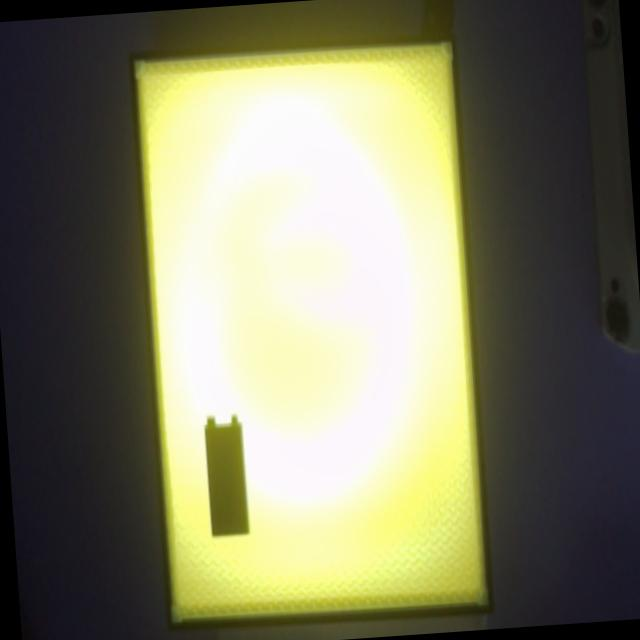bateria: (203, 416, 250, 539)
mesa: (128, 31, 495, 634)
